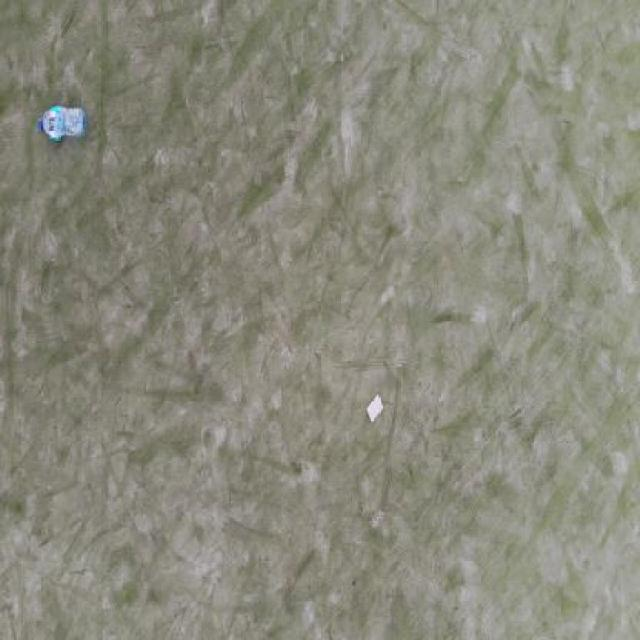Garbage: (38, 104, 86, 140), (365, 391, 384, 422)
